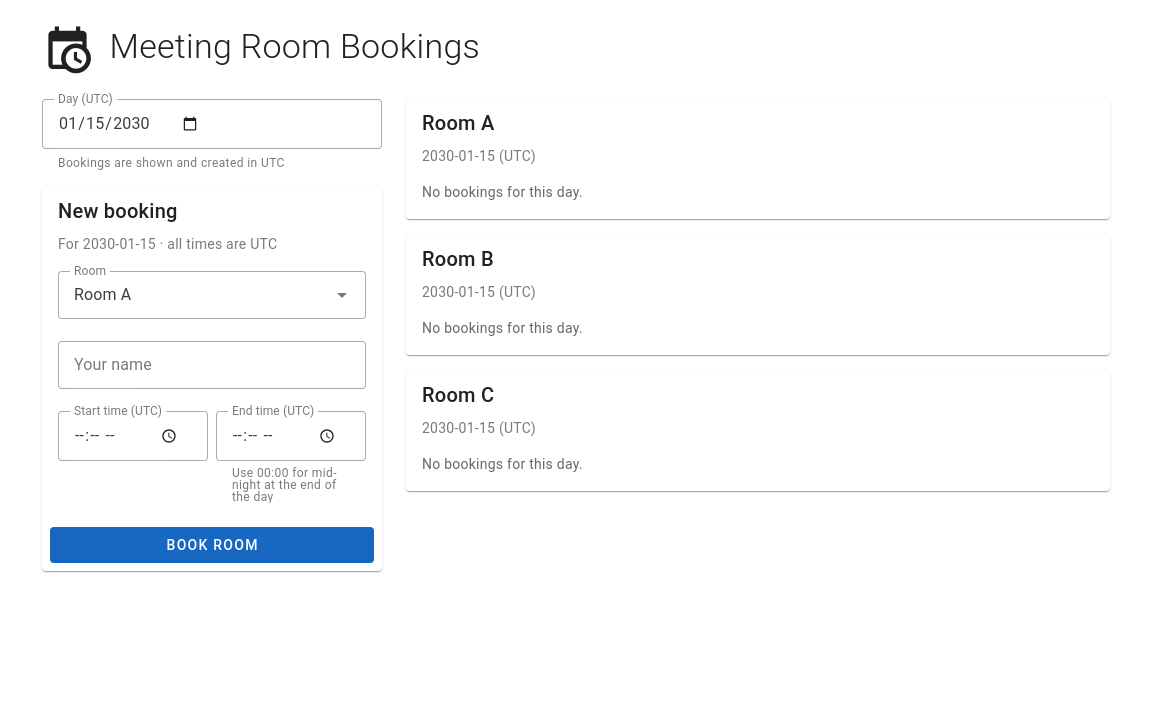
Test: RoomBookings › refreshes the bookings after a successful booking
In the field named "bookedBy": (212, 365) [58,341,366,389], type "Alice"
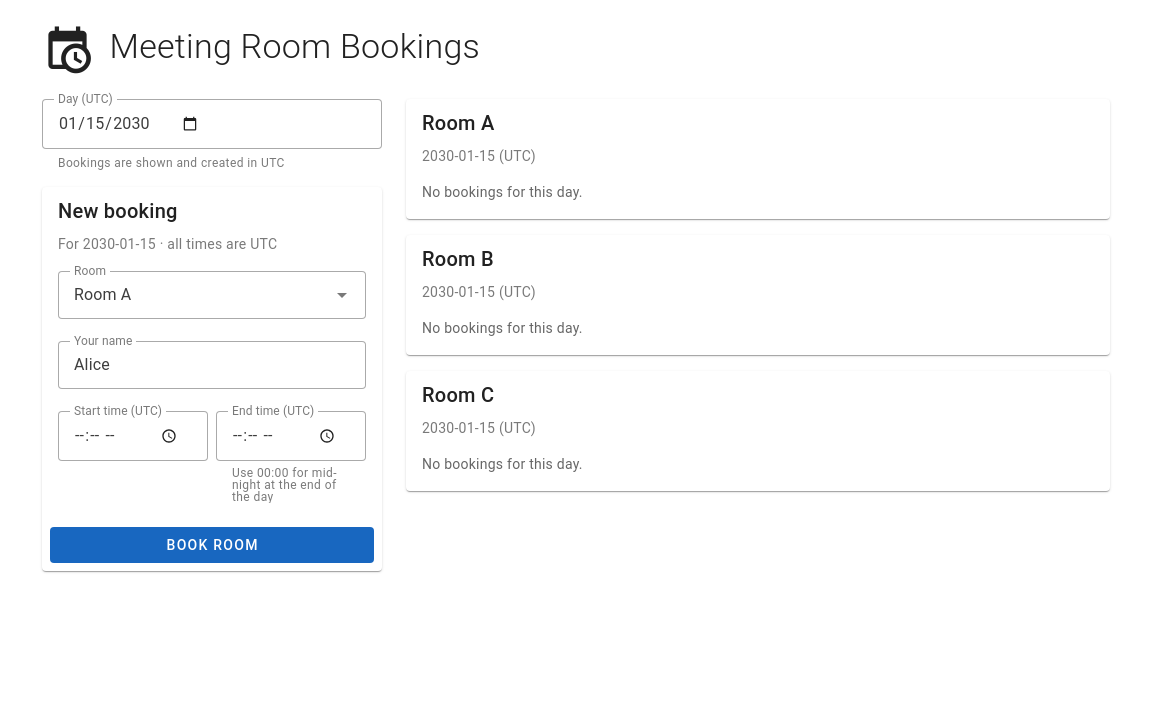
In the time field named "startTime": (133, 436) [58,411,208,461], type "10:00"
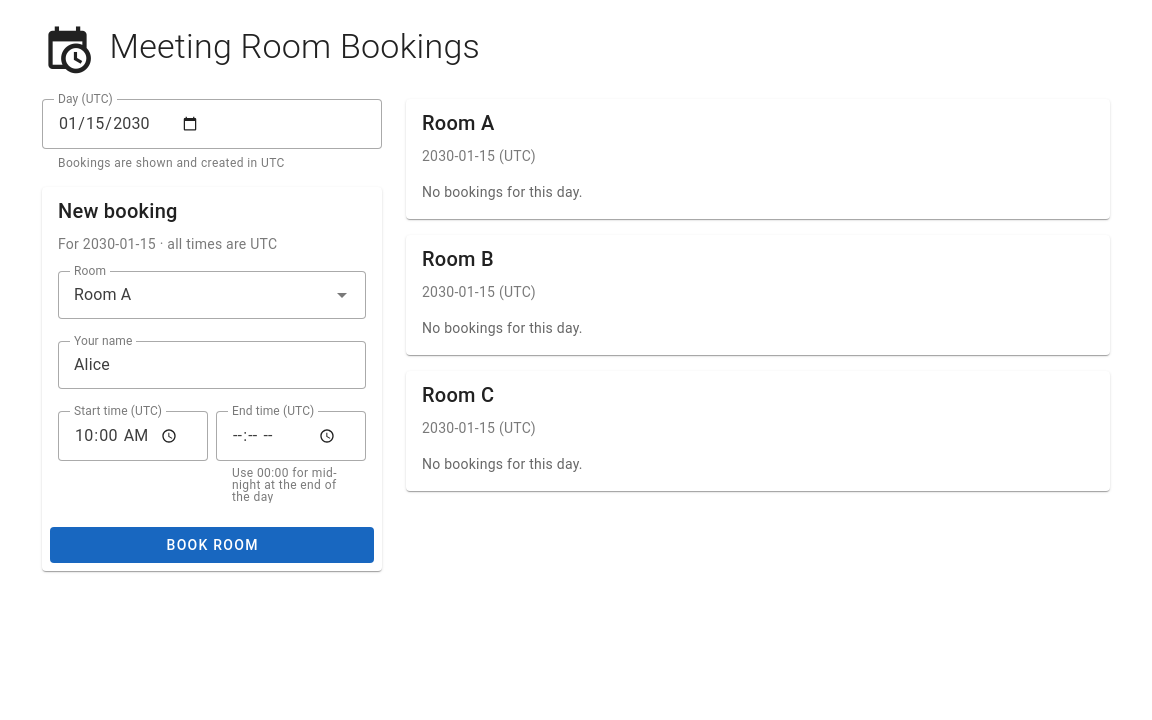
In the time field named "endTime": (291, 436) [216,411,366,461], type "11:00"
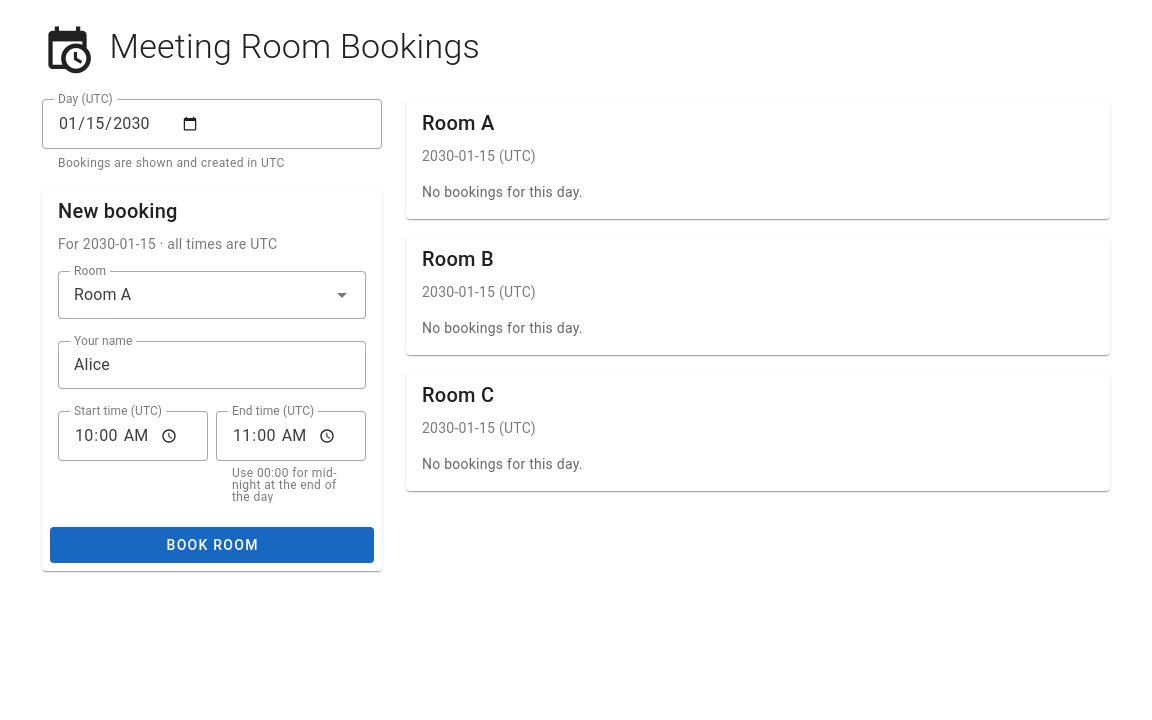
Submit the form, box [42,255,382,571]
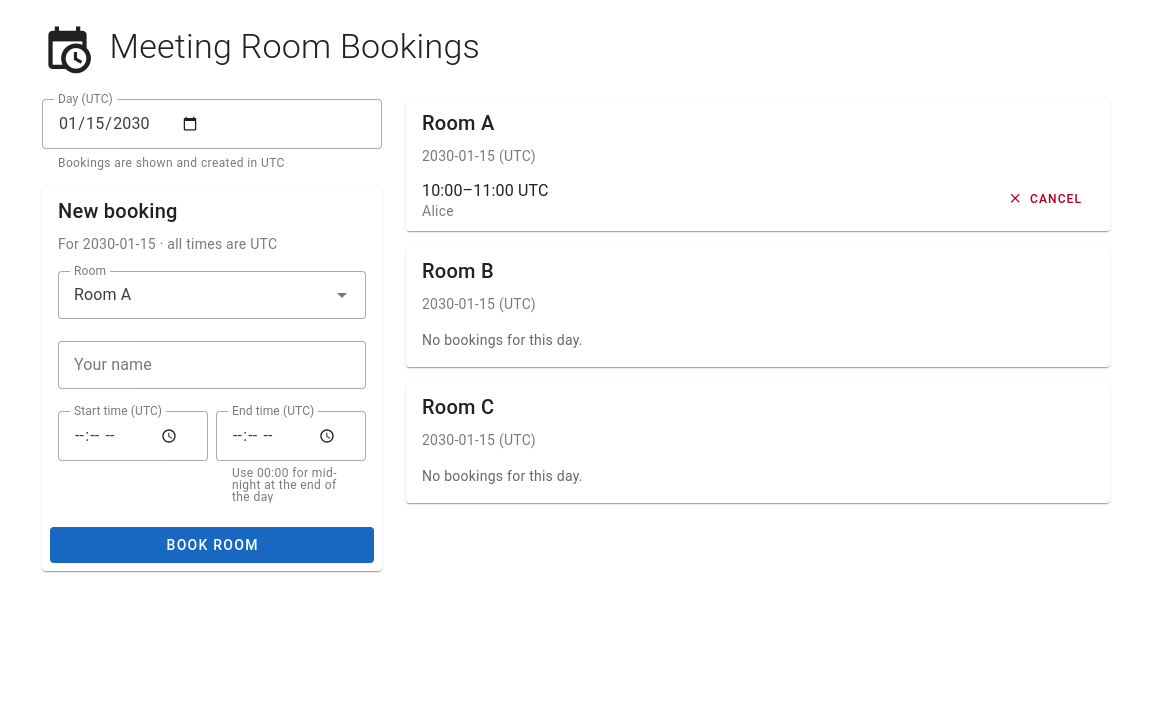
Now the element showing "Room A 2030-01-15 (UTC) 10:00–11:00 UTC Alice Cancel" is shown, box [406,99,1110,231]
